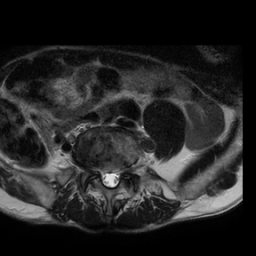CCS_normal: (106, 165, 112, 192)
LFS_stenosis: (120, 159, 128, 181)
LLS_normal: (112, 164, 120, 190)
RFS_stenosis: (92, 158, 99, 179)
RLS_normal: (99, 164, 106, 187)
